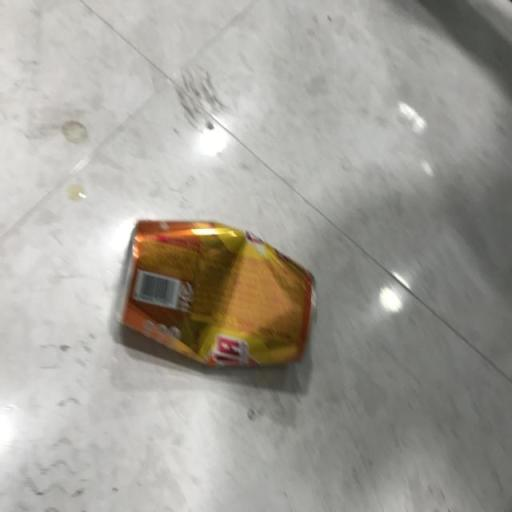metal: (108, 203, 338, 404)
